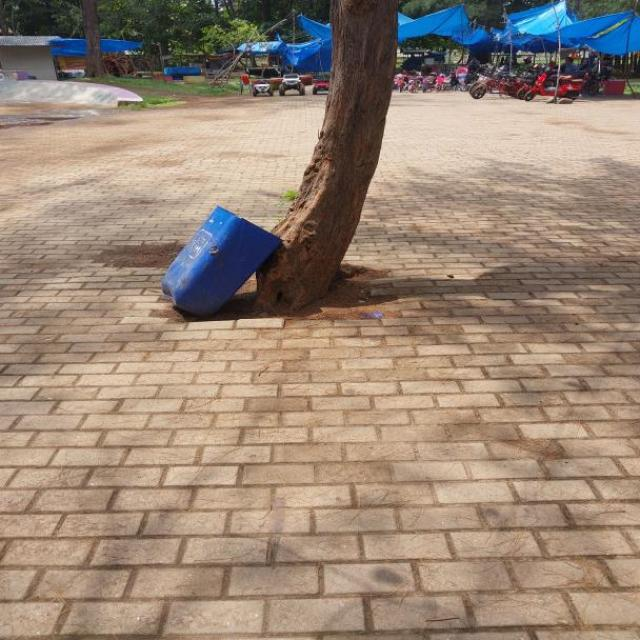dustbin ahead at: (158, 206, 282, 318)
